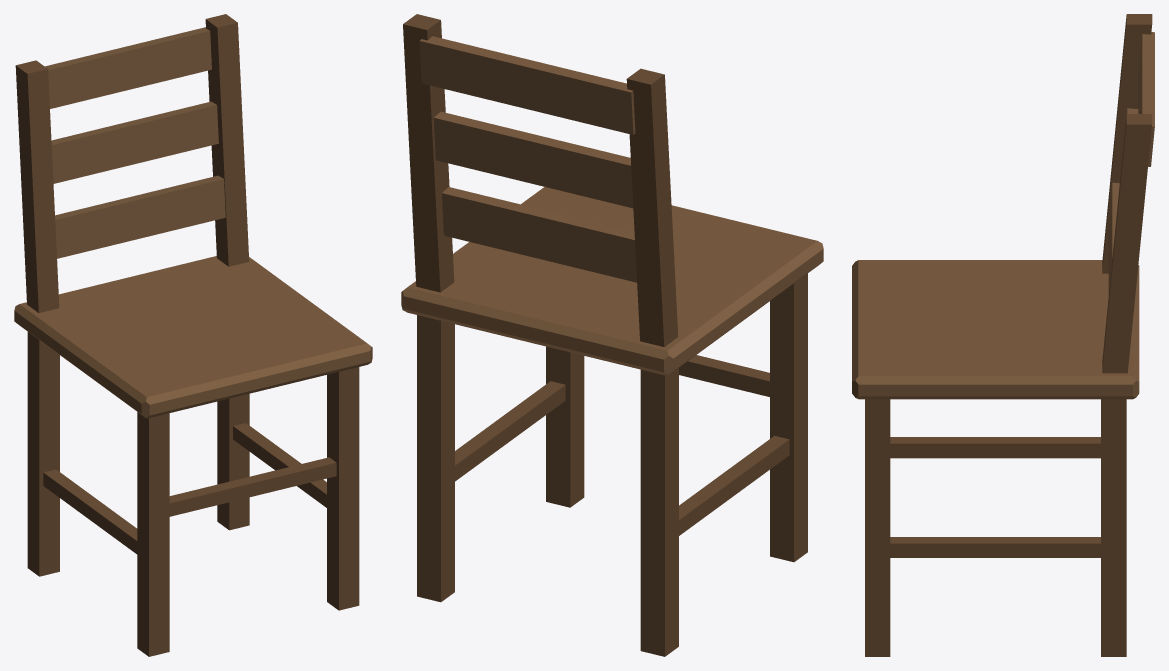
The model's file is chaise.glb.
3 views of the same model, side by side, from view 1: azimuth 30°, elevation 25°; view 2: azimuth 150°, elevation 25°; view 3: azimuth 270°, elevation 25° (orthographic). The views are drawn at different scales.
Parts seen in each view (by area): view 1: seat, slats, front_legs, post_l, post_r, stretchers, stretcher_f; view 2: seat, slats, post_l, post_r, front_legs, stretchers, stretcher_f; view 3: seat, post_r, stretchers, front_legs, post_l, slats.
Part boxes in pixels (box(x1,y1,x2,y2)): seat: box(14, 256, 372, 418); slats: box(45, 27, 225, 258); front_legs: box(137, 367, 359, 656); post_l: box(15, 60, 59, 576); post_r: box(205, 14, 249, 530); stretchers: box(43, 423, 326, 554); stretcher_f: box(169, 457, 336, 516); seat: box(401, 187, 823, 375); slats: box(419, 36, 636, 282); post_l: box(626, 68, 678, 656); post_r: box(403, 14, 454, 602); front_legs: box(546, 273, 807, 562); stretchers: box(455, 381, 789, 535); stretcher_f: box(679, 355, 769, 396); seat: box(852, 260, 1139, 399); post_r: box(1101, 114, 1152, 656); stretchers: box(890, 437, 1100, 557); front_legs: box(865, 399, 890, 656); post_l: box(1102, 14, 1152, 273); slats: box(1108, 32, 1154, 294).
Size of the model in its own units: 0.45 by 0.92 by 0.4743.
Materials: 2 (2 with a texture image).
